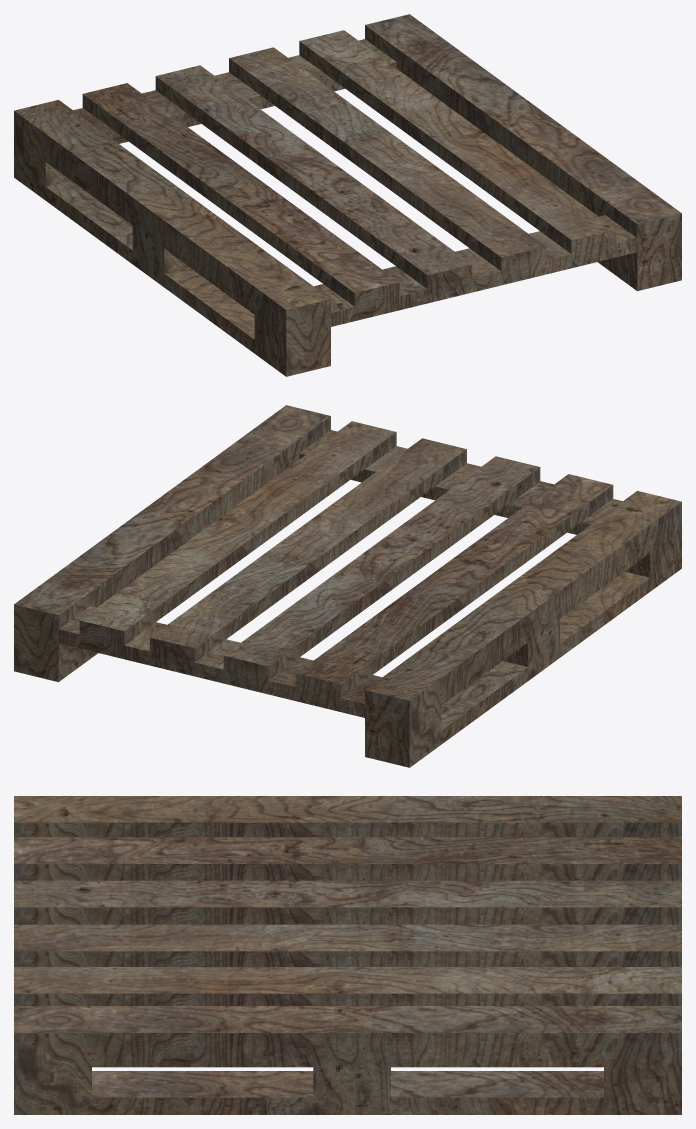
The model's file is _Palete_1.FBX.
3 views of the same model, one above another, from view 1: azimuth 30°, elevation 25°; view 2: azimuth 150°, elevation 25°; view 3: azimuth 270°, elevation 25° (orthographic). The views are drawn at different scales.
Visible parts, largest first — view 1: _Palete_1; view 2: _Palete_1; view 3: _Palete_1.
Part boxes in pixels (x1,y1,x2,y2): _Palete_1: (14,14,681,376); _Palete_1: (14,405,681,767); _Palete_1: (14,796,681,1114).
Size of the model in its own units: 108 by 17.45 by 129.
Materials: 1 (1 with a texture image).
